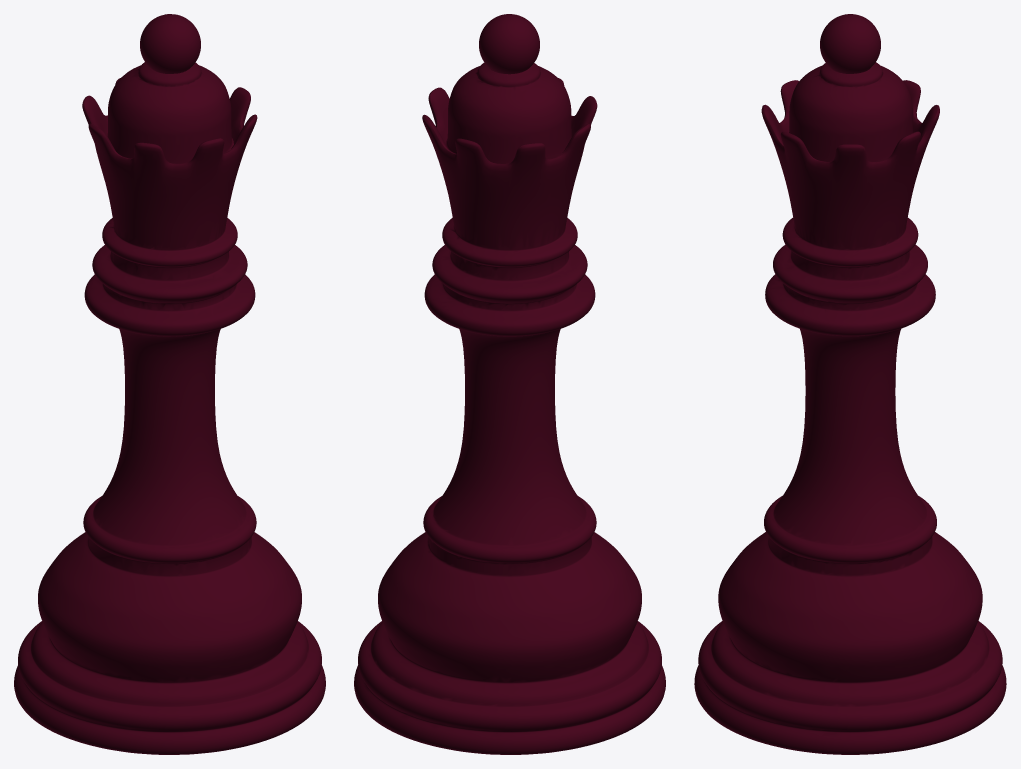
The model's file is gercek3_q_b.glb.
3 renders of one model, left to right at view 1: azimuth 30°, elevation 25°; view 2: azimuth 150°, elevation 25°; view 3: azimuth 270°, elevation 25°, orthographic.
Visible parts, largest first — view 1: Object_21; view 2: Object_21; view 3: Object_21.
Boxes of the visible parts, <box> form: Object_21: <box>14,14,325,754</box>; Object_21: <box>354,14,665,754</box>; Object_21: <box>694,14,1006,754</box>.
Bounding box in the file's own units: 1.54 × 3.67 × 1.54.
